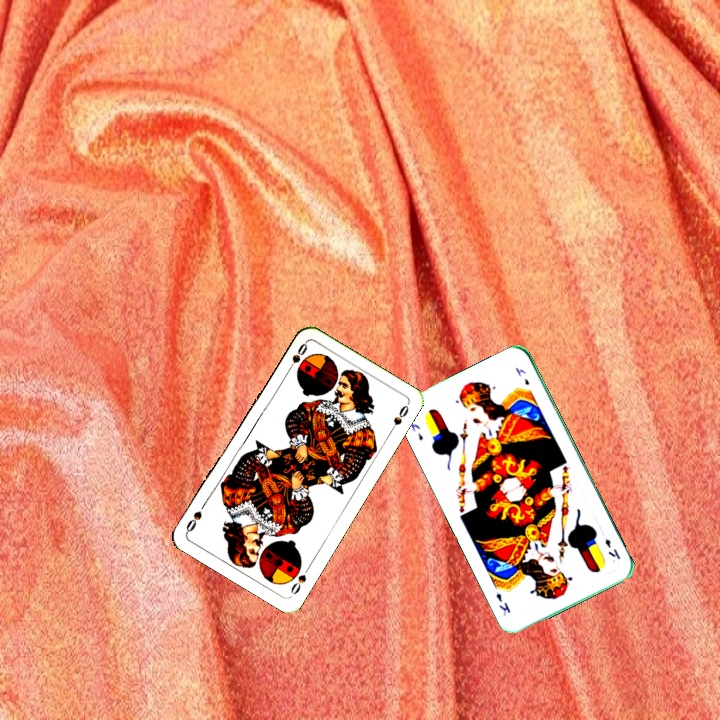EK: (601, 535, 623, 562), (406, 418, 426, 443)
SO: (283, 339, 310, 375), (286, 562, 313, 597)
